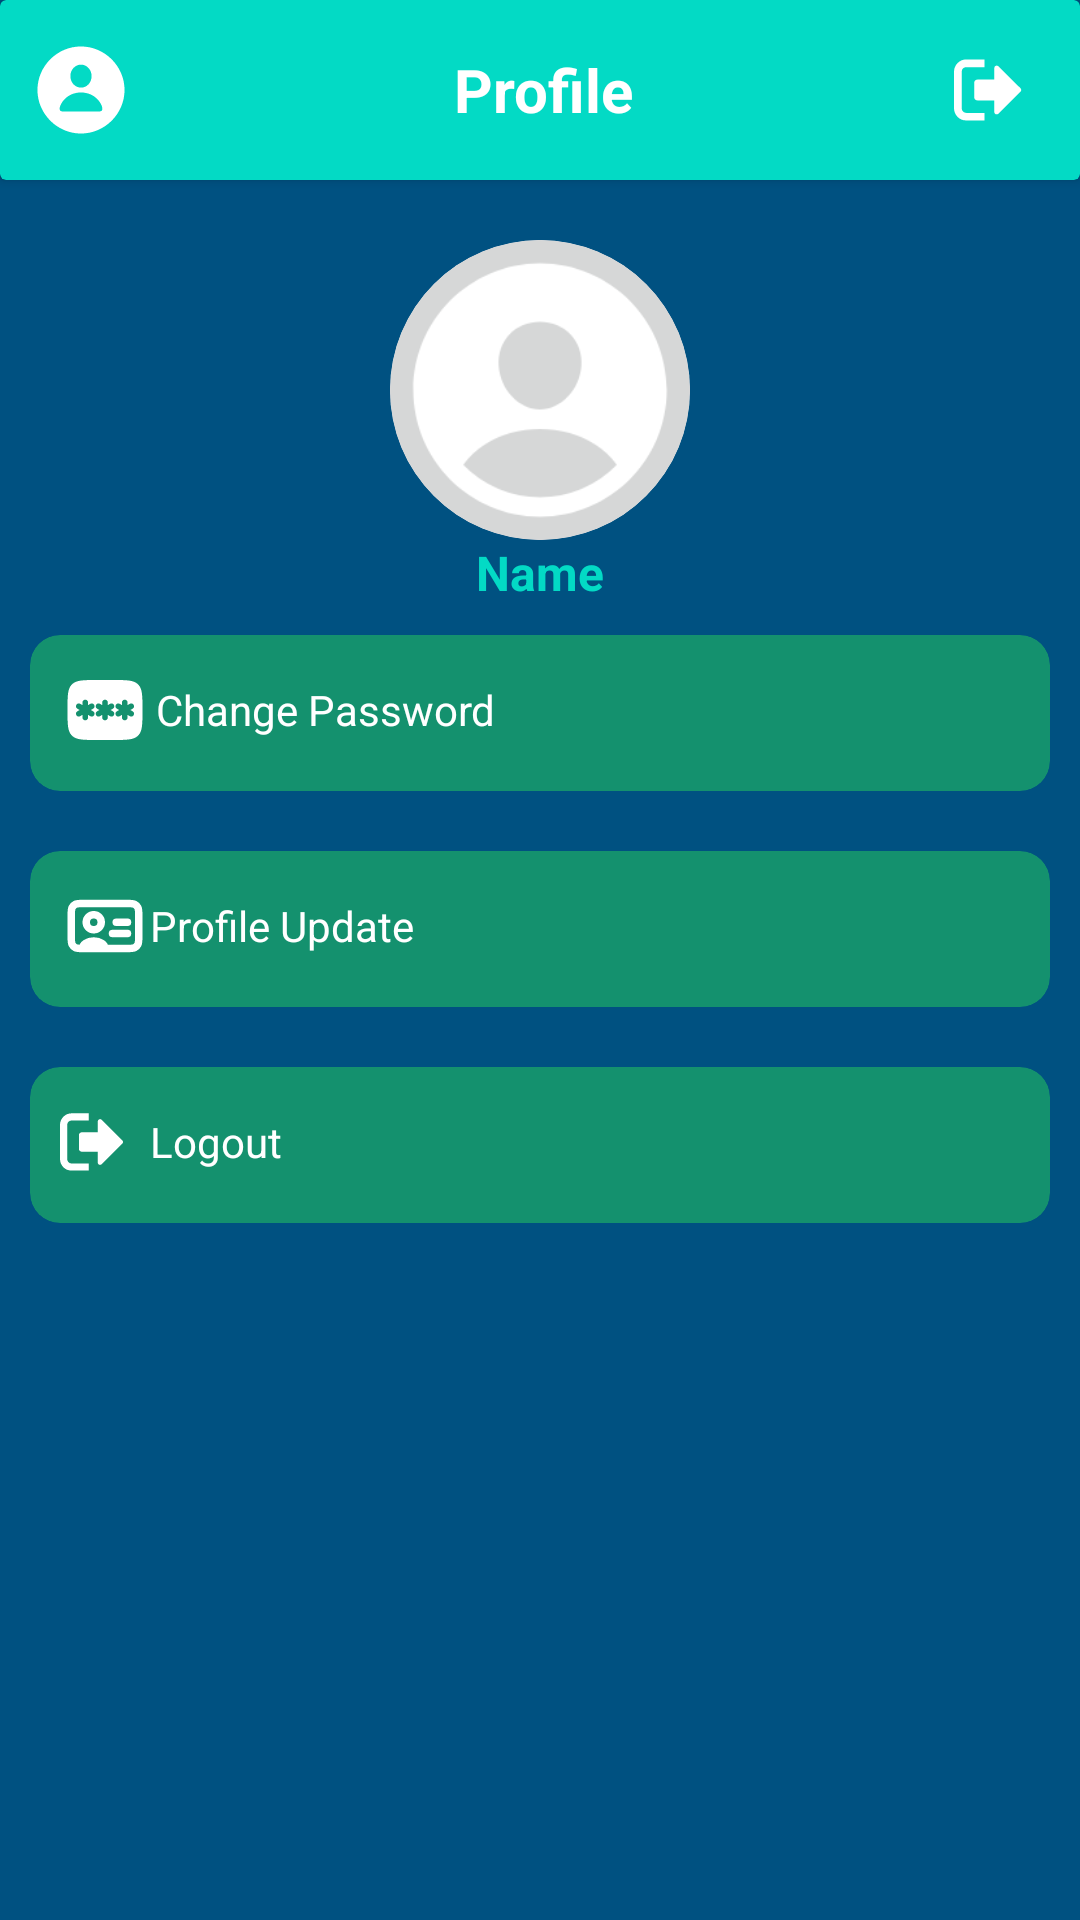

Locate icon controls on the screen. Image size 1080px x 1920px, boxes as (x1, y1, x2, y2).
user card: (67, 899, 143, 953)
